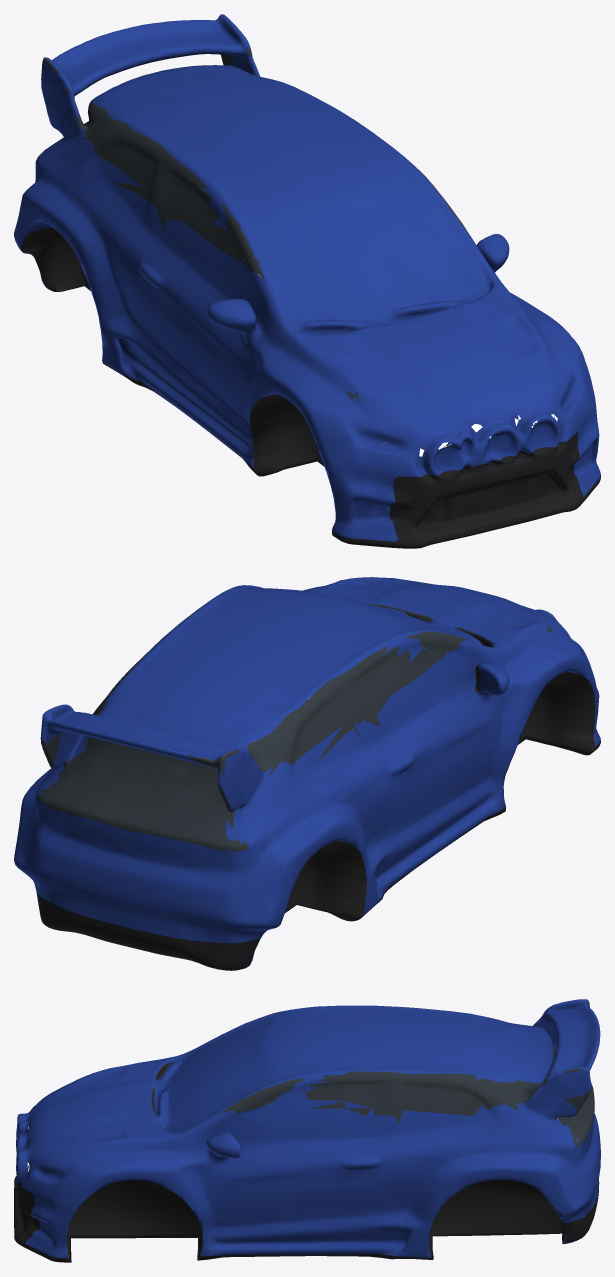
The model's file is lynx.glb.
3 views of the same model, one above another, from view 1: azimuth 30°, elevation 25°; view 2: azimuth 150°, elevation 25°; view 3: azimuth 270°, elevation 25° (orthographic). The views are drawn at different scales.
Parts seen in each view (by area): view 1: body; view 2: body; view 3: body.
Boxes of the visible parts, <box> form: body: <box>14,14,600,548</box>; body: <box>14,577,600,970</box>; body: <box>14,999,600,1262</box>.
Size of the model in its own units: 1.86 by 1.39 by 4.05.
